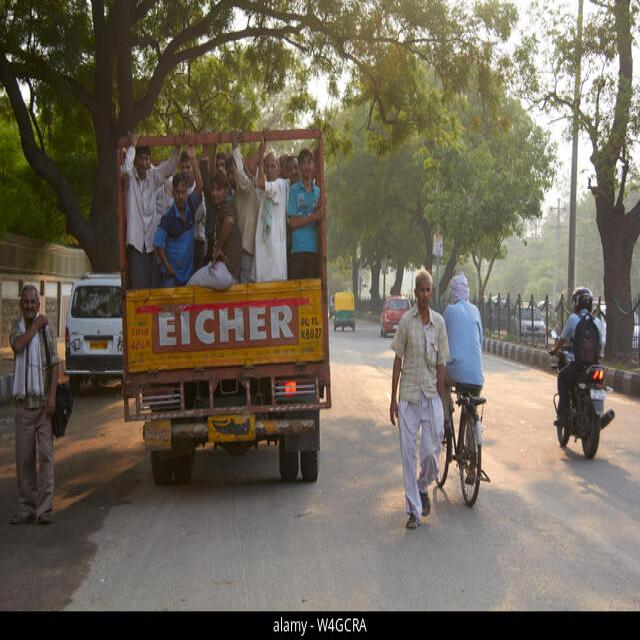normal_truck: (119, 129, 331, 485)
